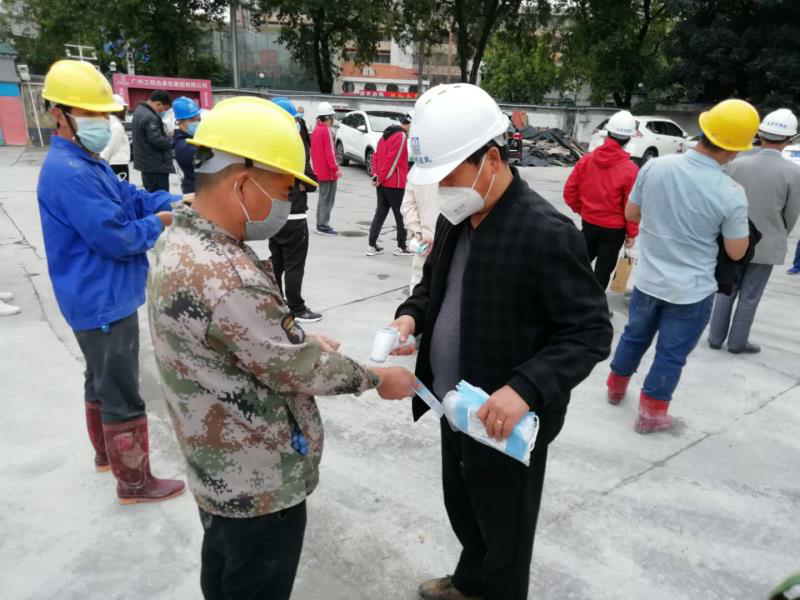safetyhat: (377, 73, 582, 522), (158, 91, 328, 600), (20, 50, 160, 505), (633, 97, 767, 409)
